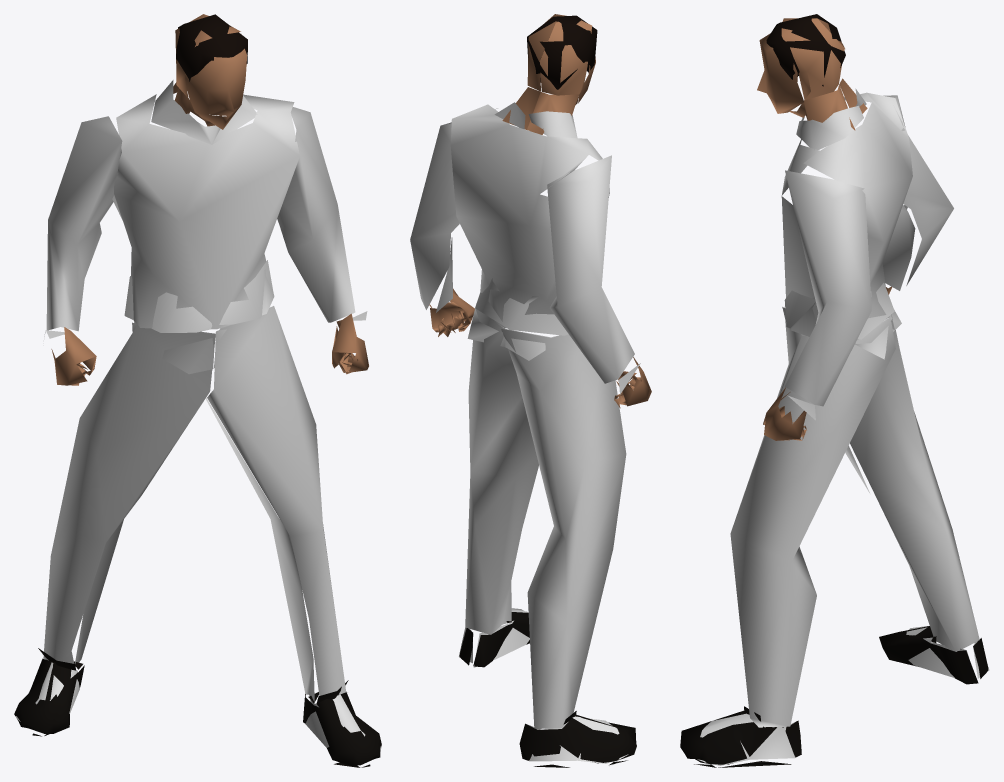
The model's file is regt_soldier.glb.
The picture shows the model from 3 angles, left to right: view 1: azimuth 30°, elevation 25°; view 2: azimuth 150°, elevation 25°; view 3: azimuth 270°, elevation 25°; orthographic projection. The views are drawn at different scales.
Visible parts, largest first — view 1: regt_uniform, regt_rest; view 2: regt_uniform, regt_rest; view 3: regt_uniform, regt_rest.
Part boxes in pixels (<box>): regt_uniform: <box>15,80,381,750</box>; regt_rest: <box>14,14,381,767</box>; regt_uniform: <box>410,102,640,766</box>; regt_rest: <box>429,14,651,767</box>; regt_uniform: <box>697,88,989,765</box>; regt_rest: <box>680,14,988,767</box>.
Bounding box in the file's own units: 0.7358 × 1.8 × 0.7272.
